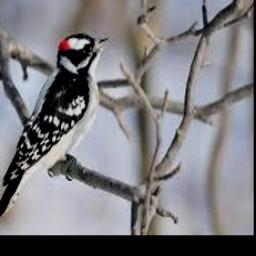Woodpecker: (0, 34, 112, 222)
